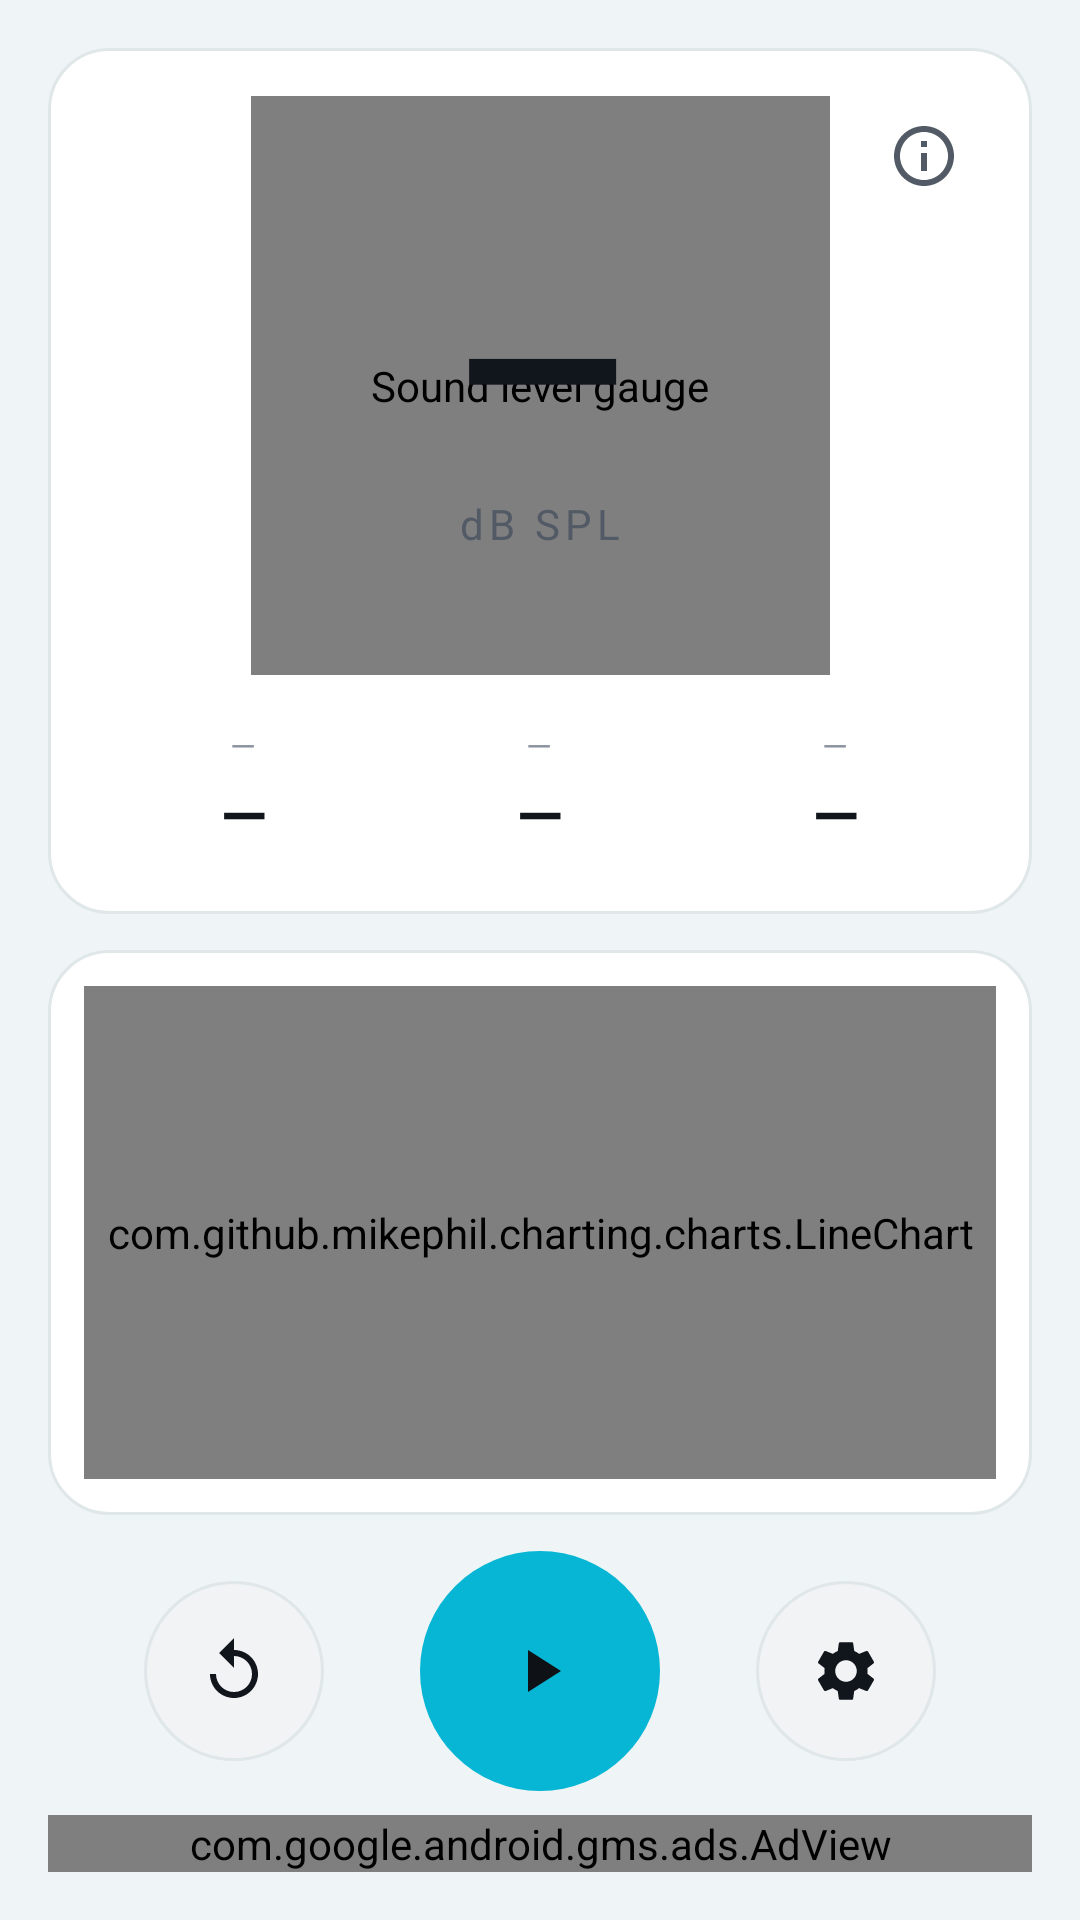

Where to tap for icons on this 1080 × 1920 app screen, as [x,y]:
Open settings: [846,1671]
Reset min, average, and maximum: [234,1668]
Resume: [540,1671]
Show sound level reference: [924,156]
